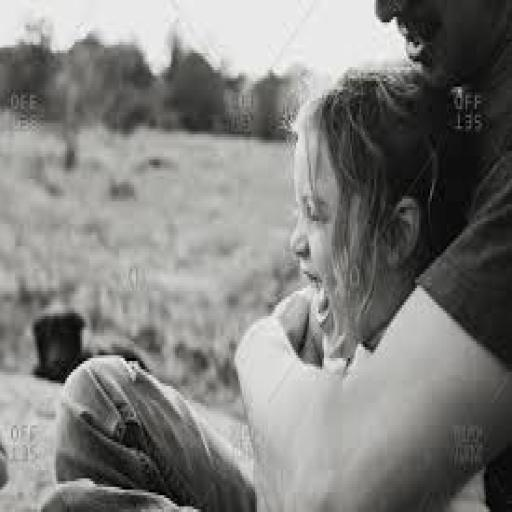hugging: (41, 3, 510, 509)
